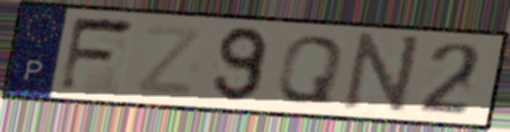2: (415, 40, 484, 115)
9: (210, 24, 272, 106)
F: (55, 14, 139, 95)
N: (338, 30, 425, 118)
Q: (272, 33, 347, 106)
Z: (133, 22, 208, 100)
